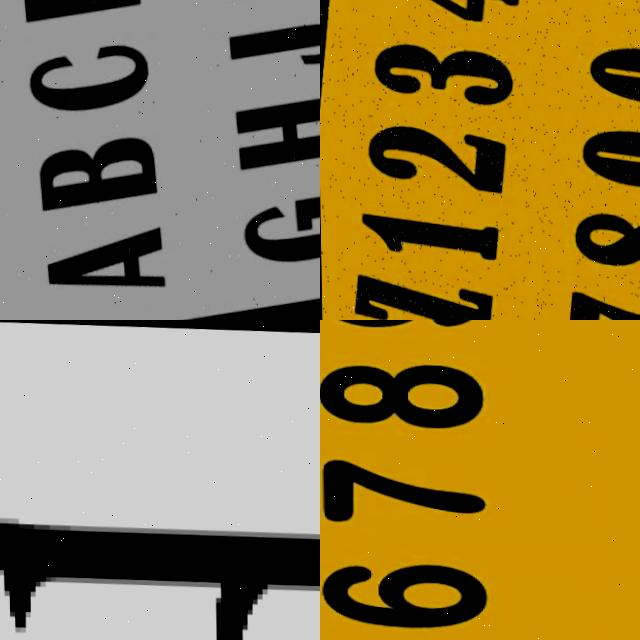0: (565, 22, 640, 122)
1: (345, 197, 510, 268)
2: (360, 109, 522, 208)
3: (358, 25, 525, 116)
4: (371, 0, 534, 31)
6: (320, 546, 499, 632)
7: (320, 446, 504, 526), (541, 278, 640, 320)
8: (320, 349, 486, 433), (548, 186, 640, 293)
9: (559, 110, 640, 205)
D: (0, 459, 320, 640)
